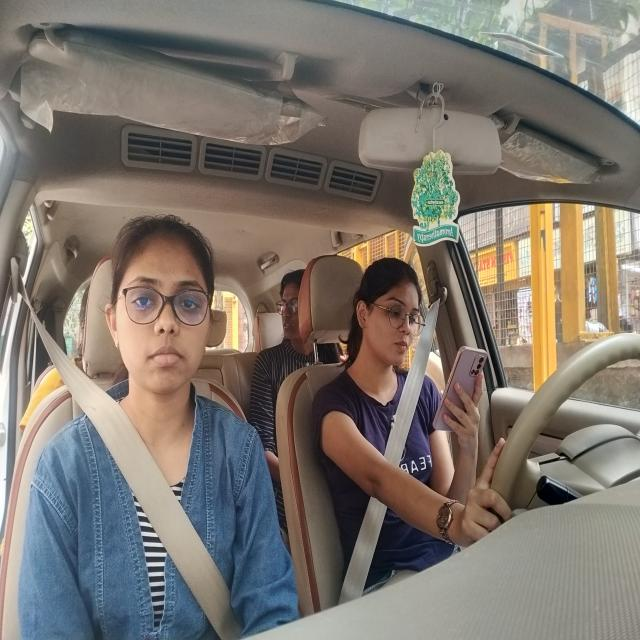mobile: (431, 342, 490, 436)
person: (106, 208, 218, 414), (351, 255, 425, 372), (278, 267, 308, 346)
